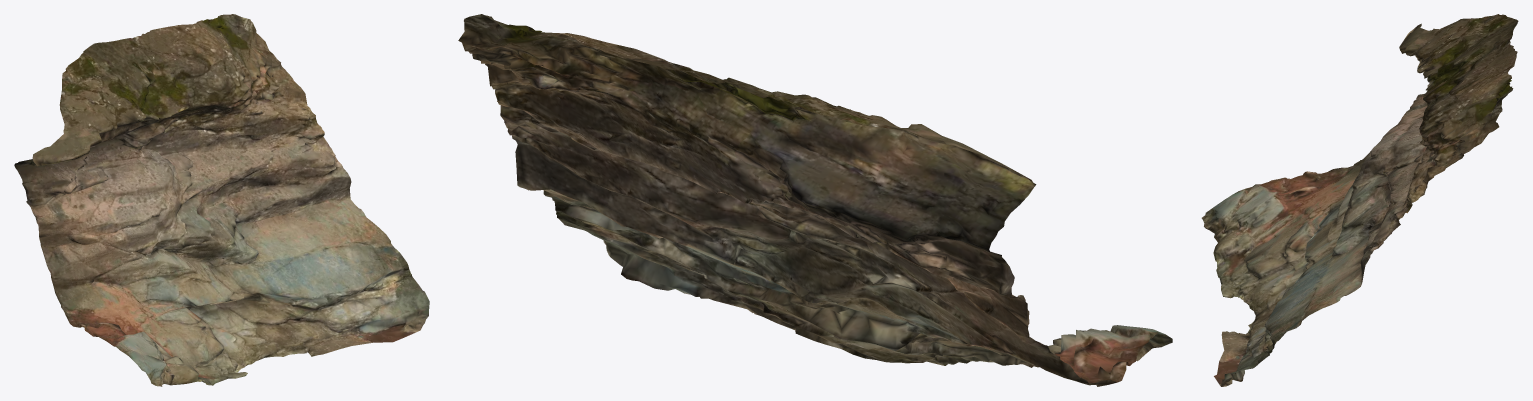
The model's file is rock_face_01.glb.
3 renders of one model, left to right at view 1: azimuth 30°, elevation 25°; view 2: azimuth 150°, elevation 25°; view 3: azimuth 270°, elevation 25°, orthographic. The views are drawn at different scales.
Parts seen in each view (by area): view 1: rock_face_01; view 2: rock_face_01; view 3: rock_face_01.
Part boxes in pixels (x1=…): rock_face_01: x1=14, y1=14, x2=429, y2=386; rock_face_01: x1=458, y1=14, x2=1172, y2=386; rock_face_01: x1=1201, y1=14, x2=1518, y2=386.
Bounding box in the file's own units: 4.95 × 3.56 × 3.83.
1 material, 1 textured.
